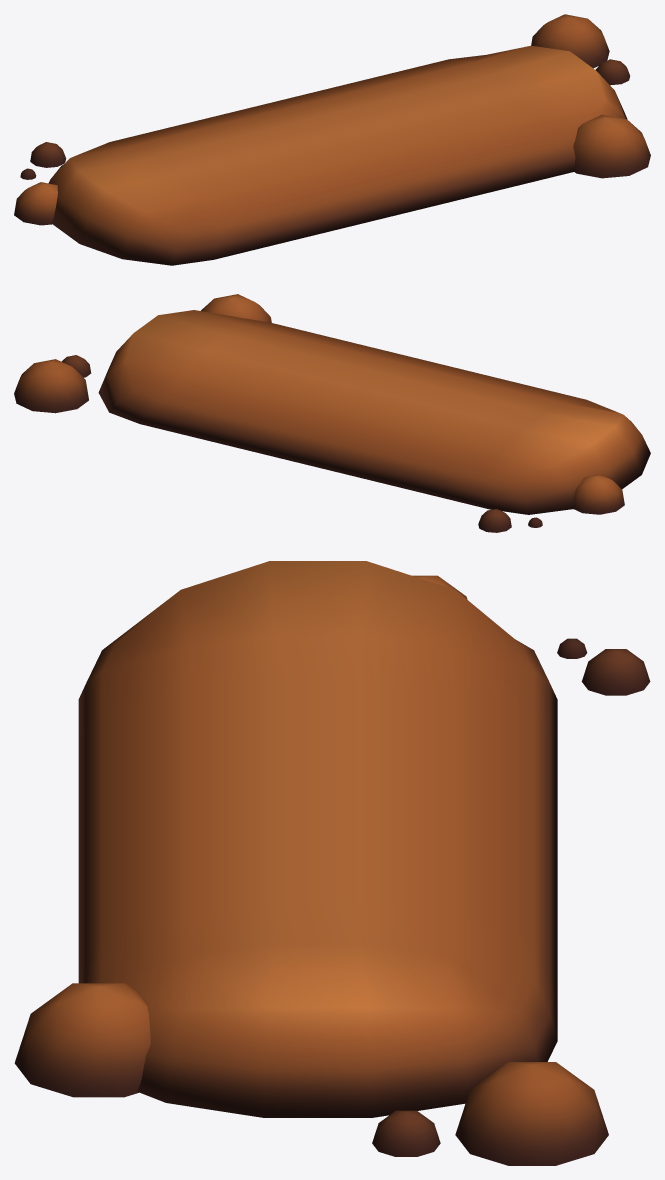
The model's file is graveundug.fbx.
3 views of the same model, one above another, from view 1: azimuth 30°, elevation 25°; view 2: azimuth 150°, elevation 25°; view 3: azimuth 270°, elevation 25° (orthographic). The views are drawn at different scales.
Visible parts, largest first — view 1: Icosphere.004; view 2: Icosphere.004; view 3: Icosphere.004.
Boxes of the visible parts, left/top/right/bottom form: Icosphere.004: left=14, top=14, right=650, bottom=265; Icosphere.004: left=14, top=294, right=650, bottom=532; Icosphere.004: left=14, top=561, right=650, bottom=1165.
Size of the model in its own units: 860 by 62.73 by 414.
